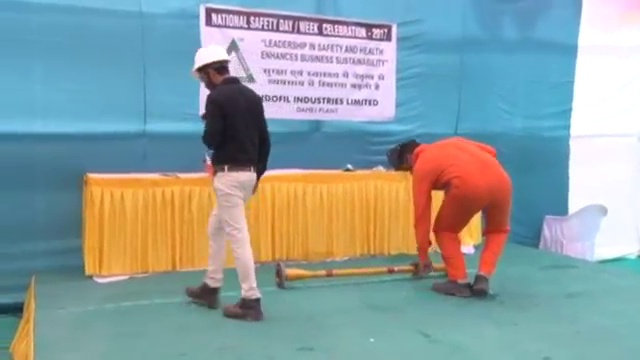helmet: (192, 44, 232, 74)
helmet_off: (396, 139, 421, 169)
helmet_on: (190, 42, 238, 90)
person: (188, 39, 273, 326), (395, 135, 514, 300)
